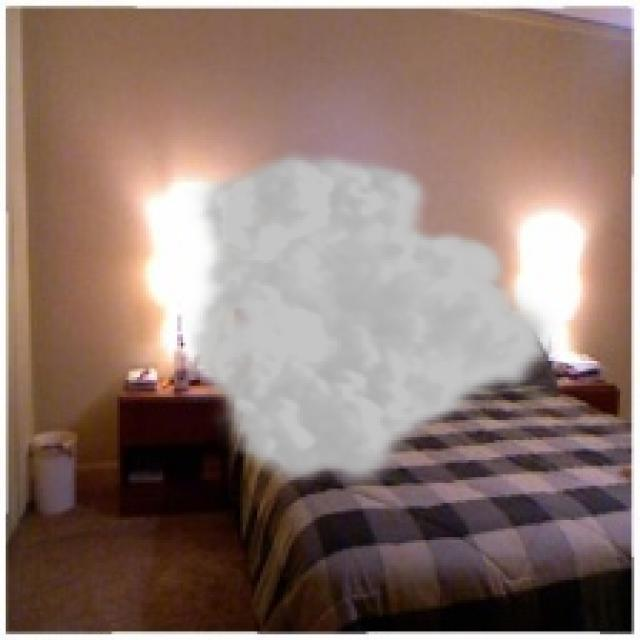Smoke: (185, 146, 560, 494)
